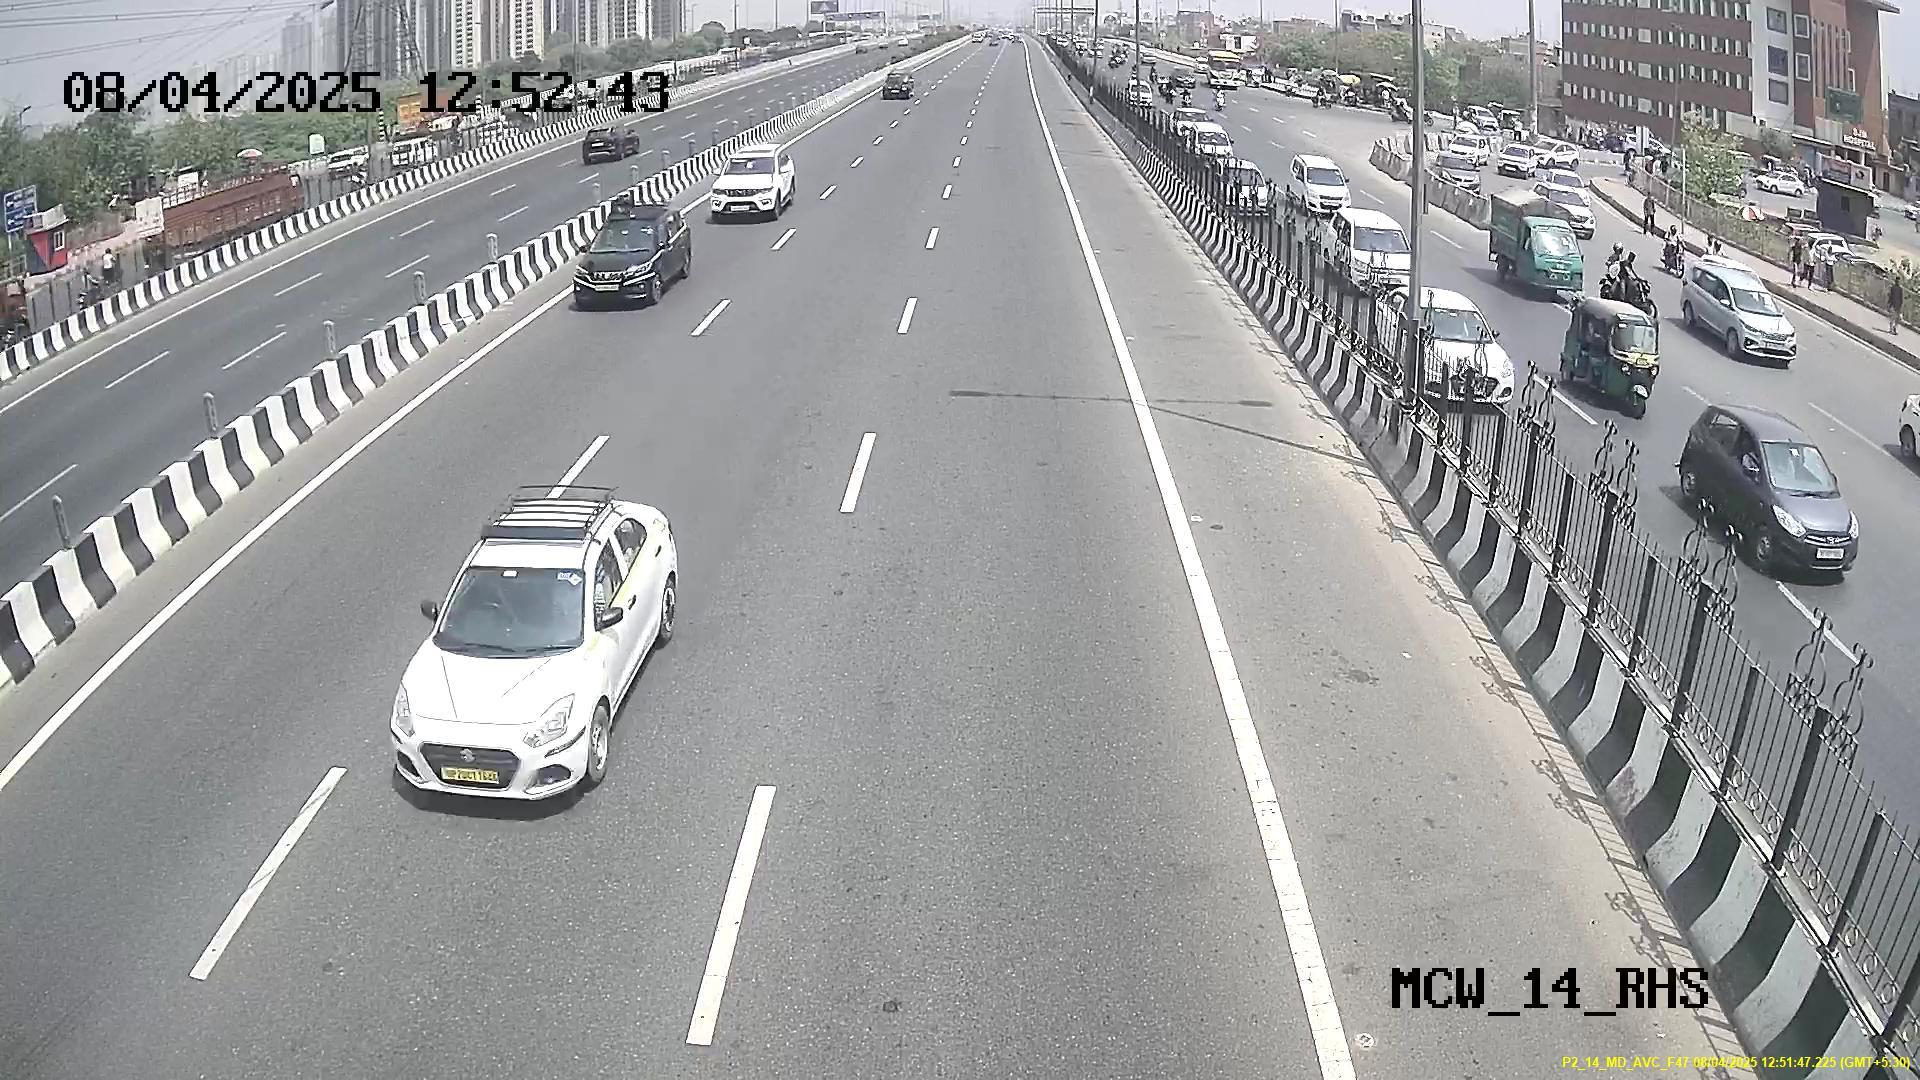car: (394, 537, 633, 802), (572, 206, 683, 310), (716, 148, 794, 225)
